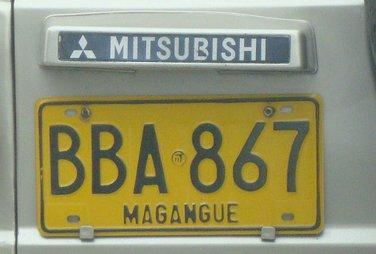placas: (31, 87, 330, 240)
